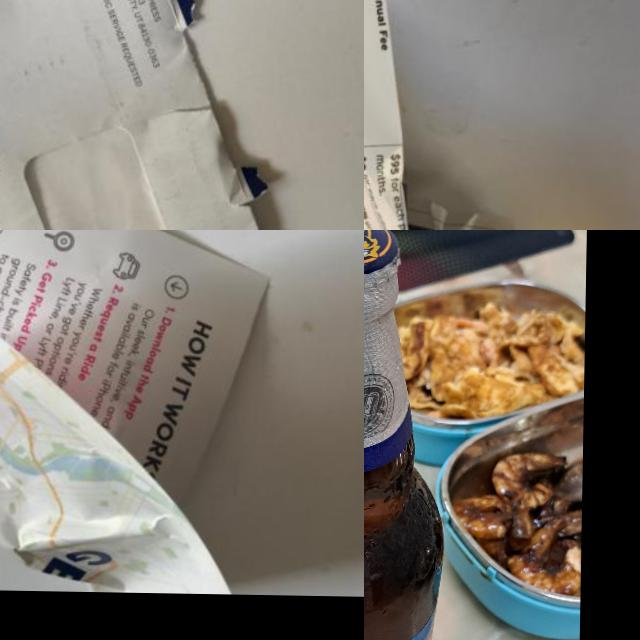garrafa de vidro: (364, 230, 450, 640)
papel: (0, 230, 271, 594), (0, 0, 314, 230), (364, 0, 597, 230)
